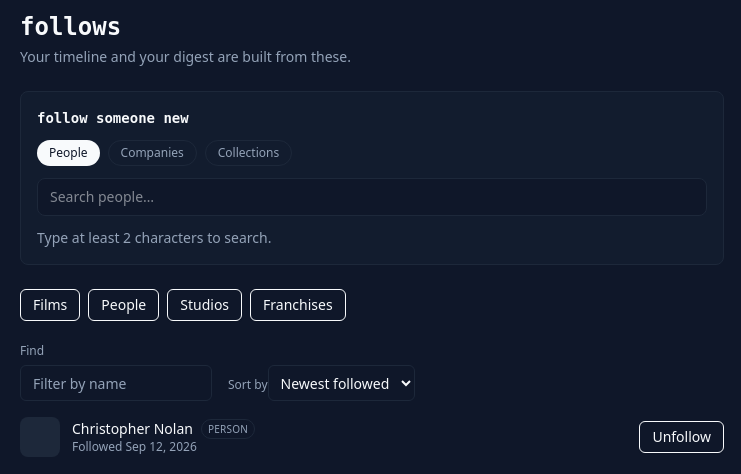
MyFollows › says so when the filters leave nothing, rather than showing an empty list
Check: the link "Christopher Nolan" is shown, box [72,419,193,438]
In the search field labelled "Find": (116, 383) [20,365,212,401], type "nobody"
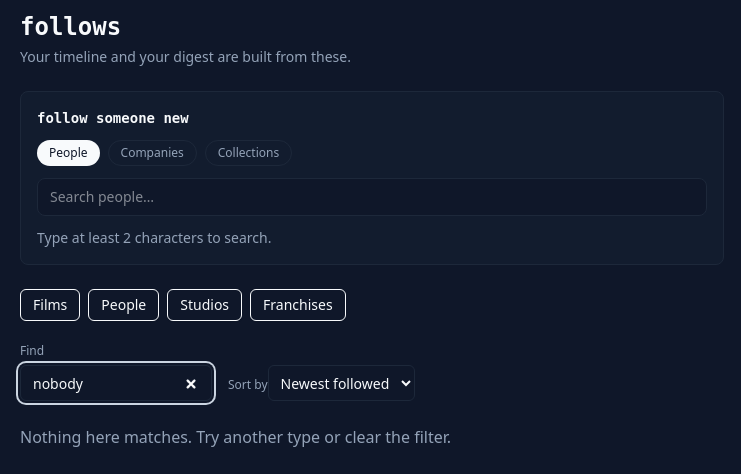
Check: the text "Nothing here matches. Try another type or clear the filter." is shown, box [20,426,451,448]
